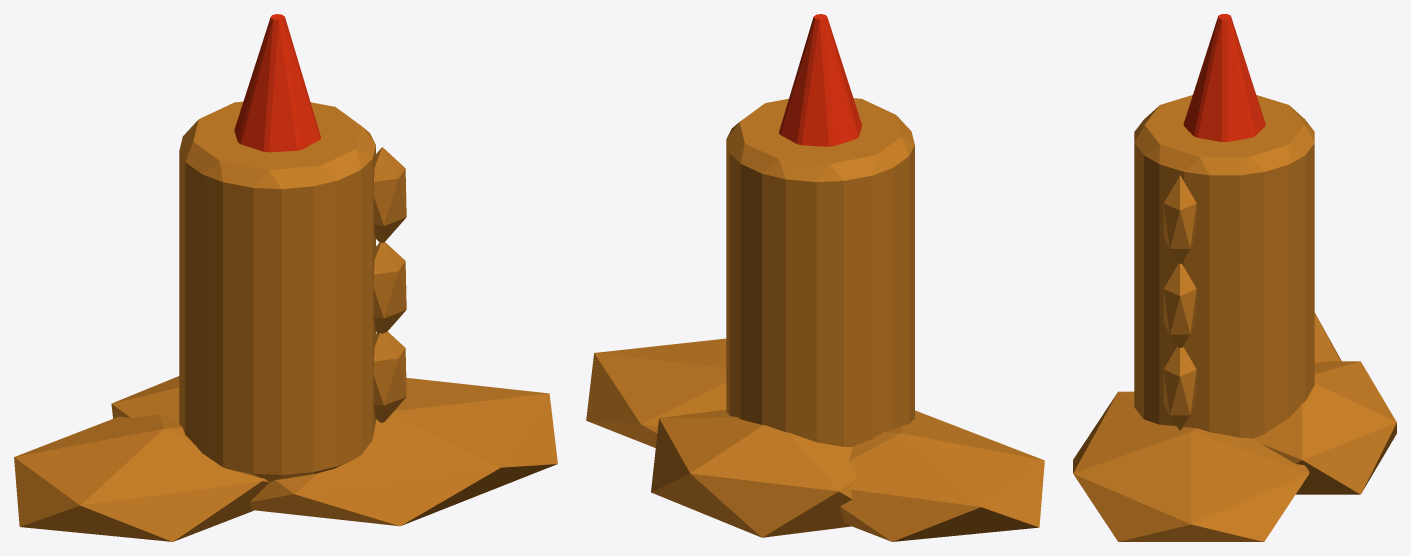
File: melted_wax.obj
3 renders of one model, left to right at view 1: azimuth 30°, elevation 25°; view 2: azimuth 150°, elevation 25°; view 3: azimuth 270°, elevation 25°, orthographic. The views are drawn at different scales.
Visible parts, largest first — view 1: Wax_Stub.001_MAT_Wax, Wax_Puddle1.001_MAT_Wax, Wax_Puddle0.001_MAT_Wax, Wax_Flame.001_MAT_Cinder, Wax_Drip0.001_MAT_Wax, Wax_Drip1.001_MAT_Wax, Wax_Drip2.001_MAT_Wax, Wax_Puddle2.001_MAT_Wax; view 2: Wax_Stub.001_MAT_Wax, Wax_Puddle0.001_MAT_Wax, Wax_Puddle2.001_MAT_Wax, Wax_Puddle1.001_MAT_Wax, Wax_Flame.001_MAT_Cinder; view 3: Wax_Stub.001_MAT_Wax, Wax_Puddle1.001_MAT_Wax, Wax_Puddle2.001_MAT_Wax, Wax_Flame.001_MAT_Cinder, Wax_Drip0.001_MAT_Wax, Wax_Drip1.001_MAT_Wax, Wax_Drip2.001_MAT_Wax, Wax_Puddle0.001_MAT_Wax.
Part boxes in pixels (bbox=[...]): Wax_Stub.001_MAT_Wax: bbox=[179, 101, 375, 482]; Wax_Puddle1.001_MAT_Wax: bbox=[249, 378, 557, 526]; Wax_Puddle0.001_MAT_Wax: bbox=[14, 414, 269, 541]; Wax_Flame.001_MAT_Cinder: bbox=[234, 14, 320, 152]; Wax_Drip0.001_MAT_Wax: bbox=[373, 147, 406, 242]; Wax_Drip1.001_MAT_Wax: bbox=[373, 242, 406, 333]; Wax_Drip2.001_MAT_Wax: bbox=[373, 331, 406, 422]; Wax_Puddle2.001_MAT_Wax: bbox=[111, 376, 179, 418]; Wax_Stub.001_MAT_Wax: bbox=[726, 98, 914, 446]; Wax_Puddle0.001_MAT_Wax: bbox=[840, 410, 1044, 541]; Wax_Puddle2.001_MAT_Wax: bbox=[651, 410, 857, 537]; Wax_Puddle1.001_MAT_Wax: bbox=[586, 338, 726, 447]; Wax_Flame.001_MAT_Cinder: bbox=[779, 14, 862, 146]; Wax_Stub.001_MAT_Wax: bbox=[1134, 95, 1314, 438]; Wax_Puddle1.001_MAT_Wax: bbox=[1073, 391, 1309, 541]; Wax_Puddle2.001_MAT_Wax: bbox=[1253, 361, 1396, 494]; Wax_Flame.001_MAT_Cinder: bbox=[1183, 14, 1265, 141]; Wax_Drip0.001_MAT_Wax: bbox=[1163, 175, 1196, 263]; Wax_Drip1.001_MAT_Wax: bbox=[1163, 263, 1196, 347]; Wax_Drip2.001_MAT_Wax: bbox=[1163, 346, 1196, 430]; Wax_Puddle0.001_MAT_Wax: bbox=[1314, 312, 1341, 362].
Size of the model in its own units: 1.91 by 1.82 by 1.17.
